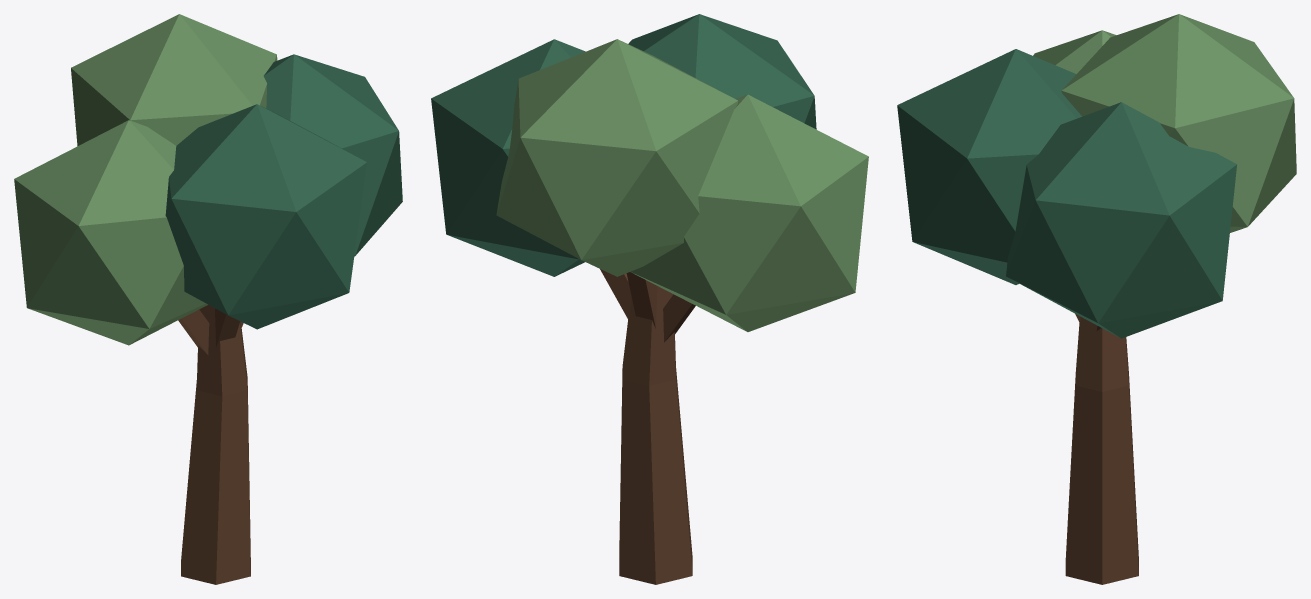
File: PirateCove_SeaGrape_Simple.glb
The picture shows the model from 3 angles, left to right: view 1: azimuth 30°, elevation 25°; view 2: azimuth 150°, elevation 25°; view 3: azimuth 270°, elevation 25°; orthographic projection. The views are drawn at different scales.
Visible parts, largest first — view 1: PirateCove_SeaGrape_Simple; view 2: PirateCove_SeaGrape_Simple; view 3: PirateCove_SeaGrape_Simple.
Boxes of the visible parts, x1,y1,x2,y2 form: PirateCove_SeaGrape_Simple: (14,14,402,584); PirateCove_SeaGrape_Simple: (431,14,868,584); PirateCove_SeaGrape_Simple: (897,14,1296,584).
Size of the model in its own units: 2.36 by 3.18 by 2.08.
